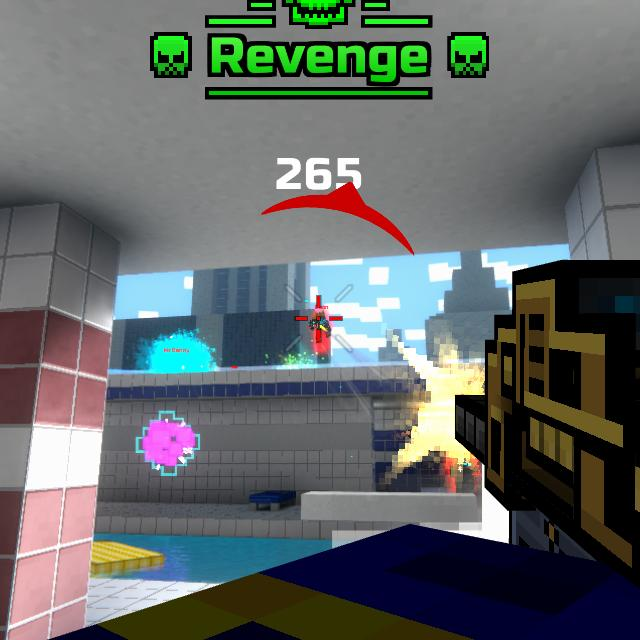Enemy: (449, 459, 477, 491), (310, 309, 329, 344)
